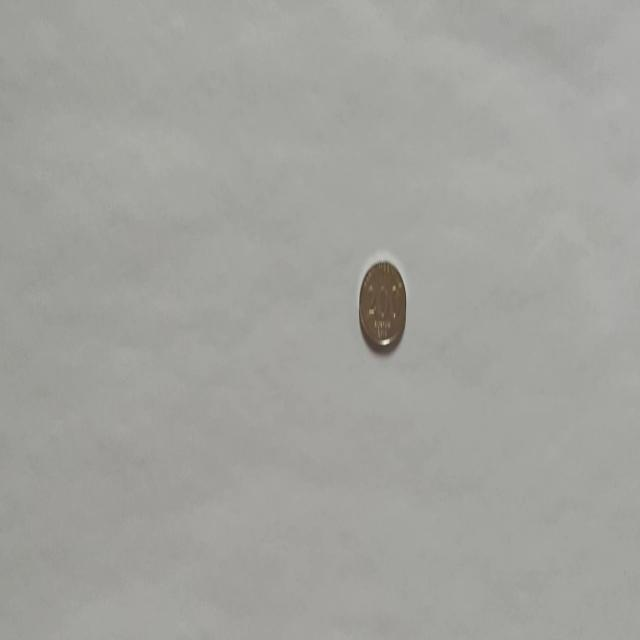dua ratus rupiah: (358, 258, 407, 352)
